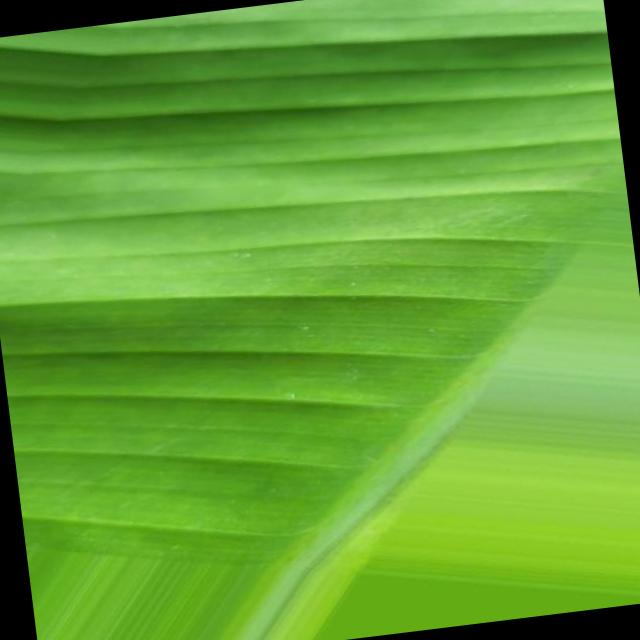Banana_Healthy: (42, 86, 448, 448)
